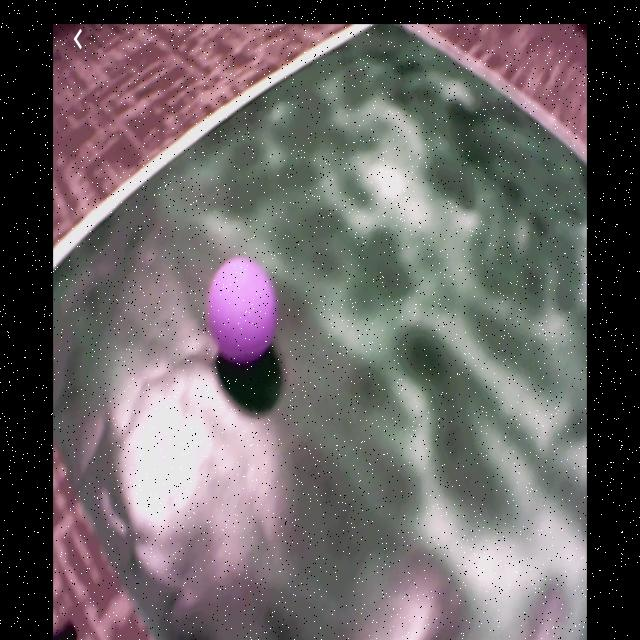ball: (212, 260, 276, 363)
